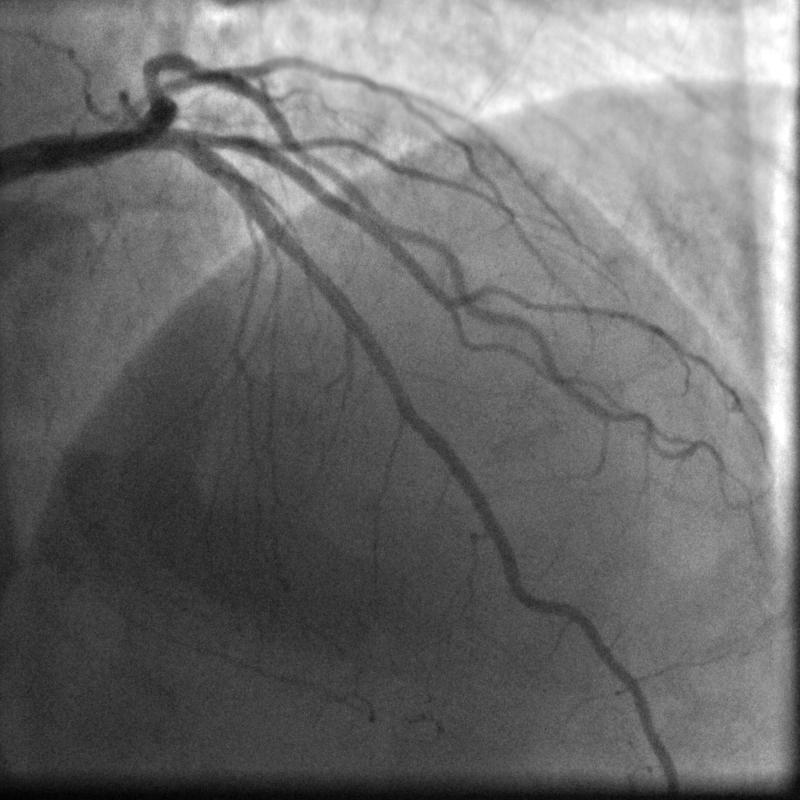Stenosis: (399, 379, 426, 437)
